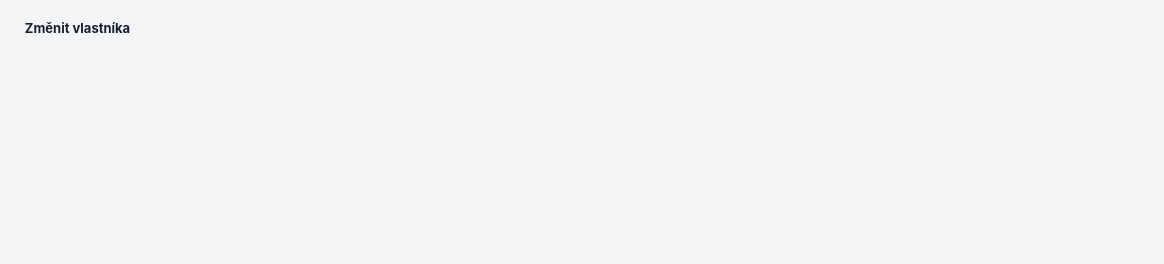
Test: OwnerChange (komponenta) › tlačítko má přístupný název s věcí; otevře formulář se dvěma výběry
This screenshot has width=1164, height=264.
Click the button "Změnit vlastníka".
click(77, 28)  # box [12,12,143,44]
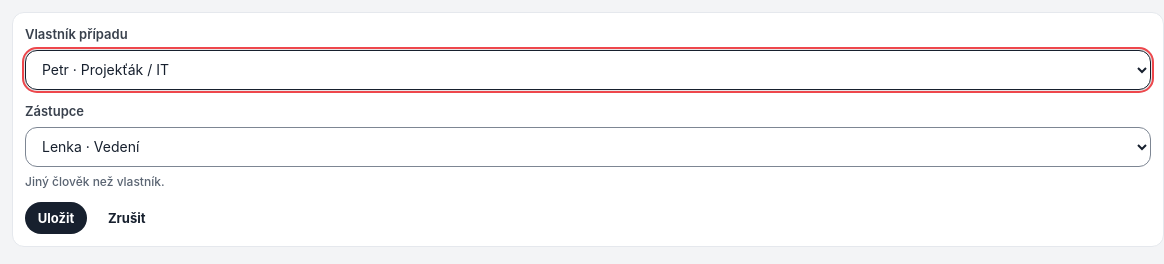
Check: the dropdown named "owner_id" shows "Petr · Projekťák / IT", box [25,50,1151,90]
Check: the dropdown named "deputy_id" shows "Lenka · Vedení", box [25,127,1151,167]
